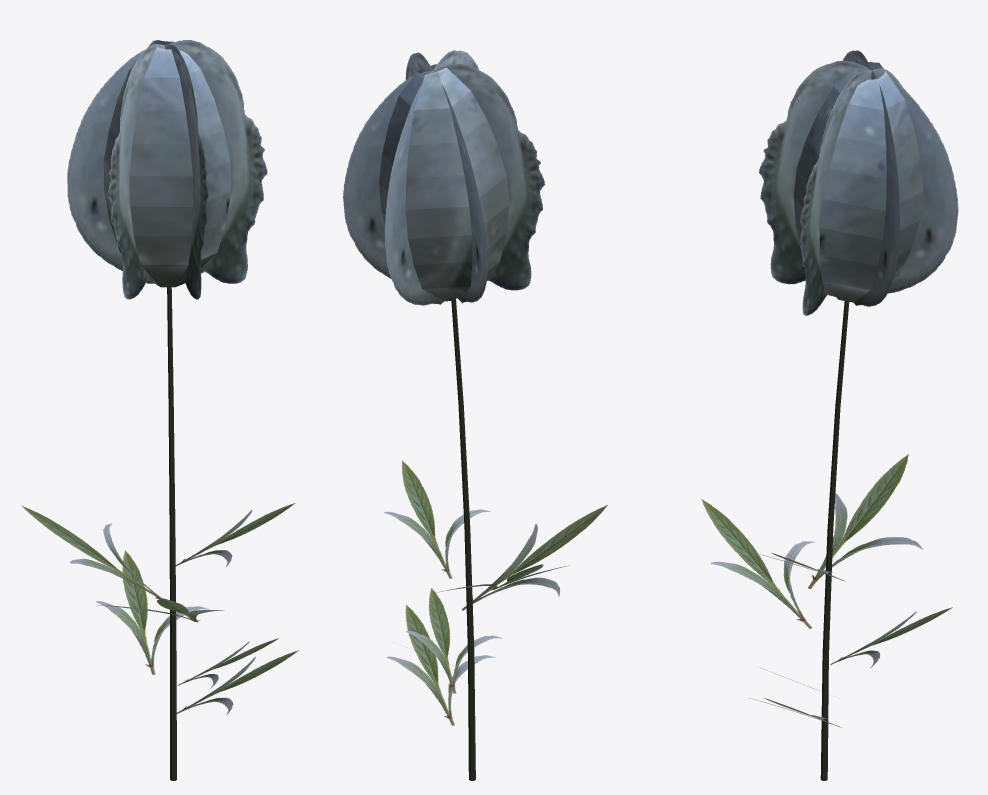
The model's file is category_mesh_flower_5_v2.glb.
The picture shows the model from 3 angles, left to right: view 1: azimuth 30°, elevation 25°; view 2: azimuth 150°, elevation 25°; view 3: azimuth 270°, elevation 25°; orthographic projection.
Parts seen in each view (by area): view 1: category_mesh_flower_5_v2; view 2: category_mesh_flower_5_v2; view 3: category_mesh_flower_5_v2.
Part boxes in pixels (x1,y1,x2,y2): category_mesh_flower_5_v2: (21, 40, 298, 780); category_mesh_flower_5_v2: (343, 50, 607, 780); category_mesh_flower_5_v2: (701, 50, 958, 780).
Bounding box in the file's own units: 0.1745 × 0.4774 × 0.1804.
1 material, 1 textured.
